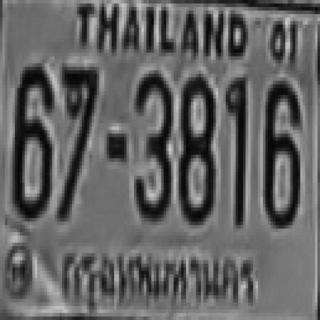N01: (225, 74, 247, 211), (225, 74, 247, 200)
N03: (131, 70, 171, 218)
N06: (10, 63, 52, 215), (262, 77, 299, 225)
N07: (57, 63, 97, 218)
N08: (176, 74, 213, 222)
P04: (52, 237, 264, 313)
